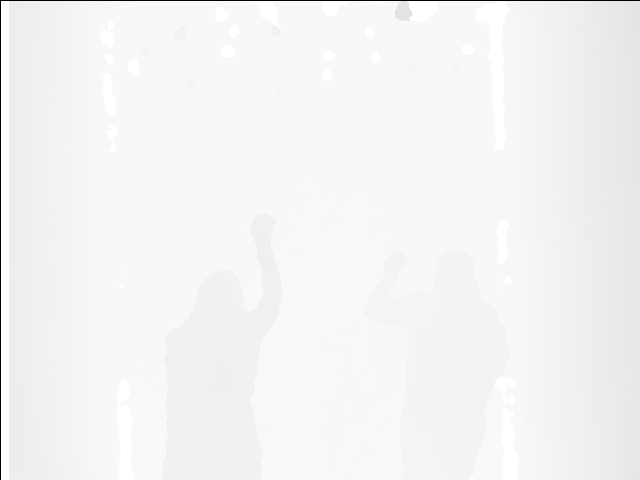hand: (251, 211, 277, 250), (382, 246, 406, 282)
